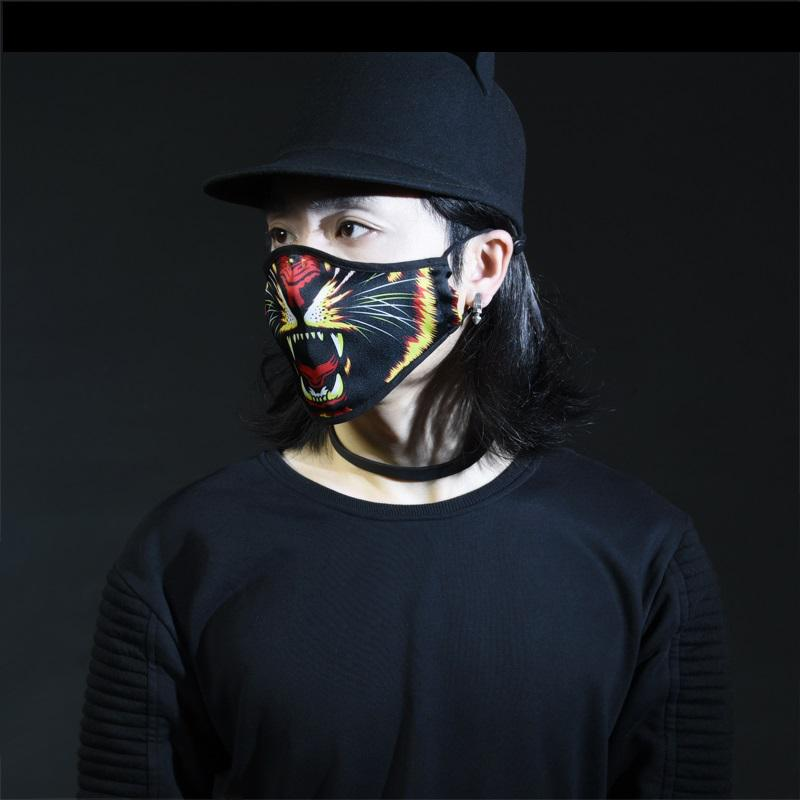OK: (255, 186, 470, 399)
